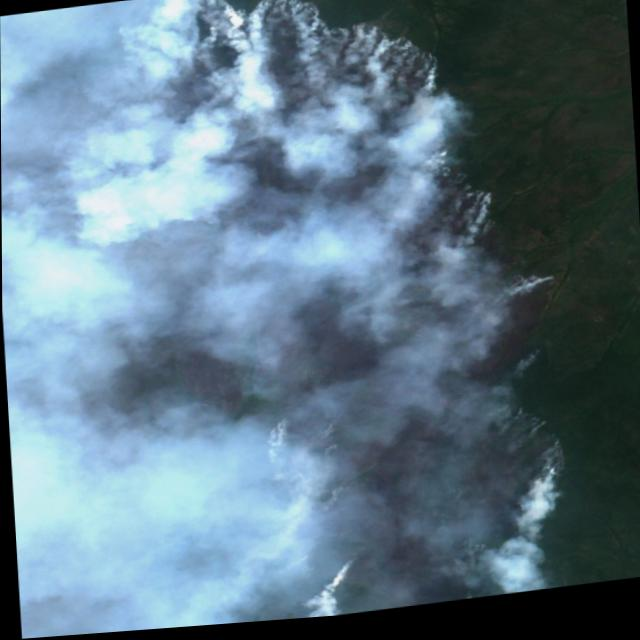fire: (205, 0, 449, 131), (413, 110, 507, 258), (483, 394, 568, 522), (505, 271, 559, 309), (325, 549, 362, 601), (507, 348, 539, 390)
